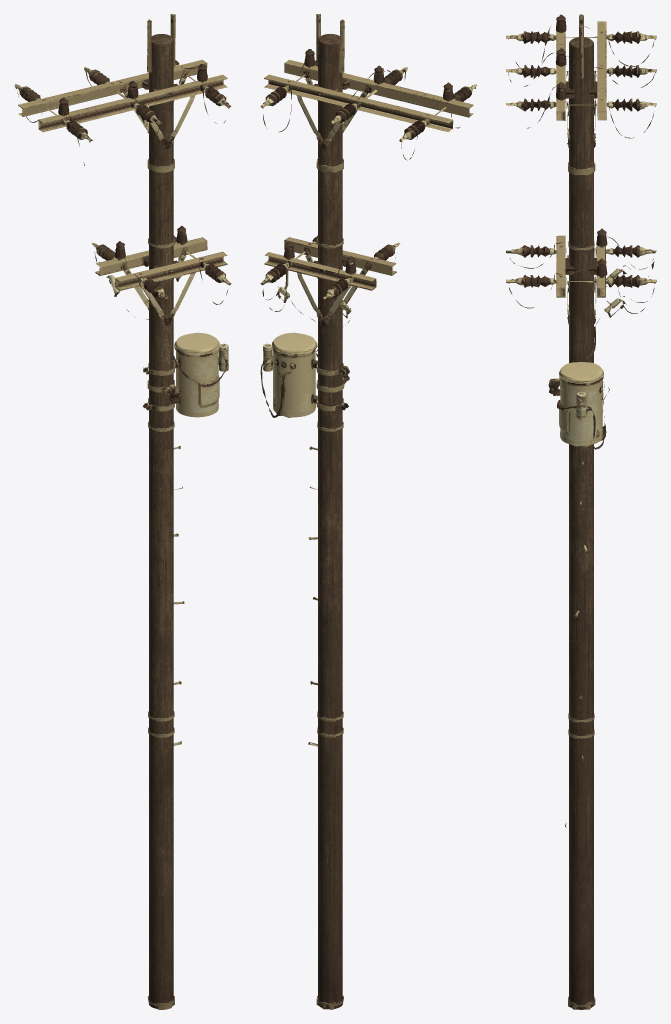
File: electricity_pole_03.glb
The picture shows the model from 3 angles, left to right: view 1: azimuth 30°, elevation 25°; view 2: azimuth 150°, elevation 25°; view 3: azimuth 270°, elevation 25°; orthographic projection.
Visible parts, largest first — view 1: body; view 2: body; view 3: body.
Part boxes in pixels (x1=…): body: x1=14, y1=14, x2=231, y2=1009; body: x1=260, y1=14, x2=477, y2=1009; body: x1=506, y1=14, x2=656, y2=1009.
Size of the model in its own units: 1.29 by 6.13 by 0.8522.
Materials: 1 (1 with a texture image).
